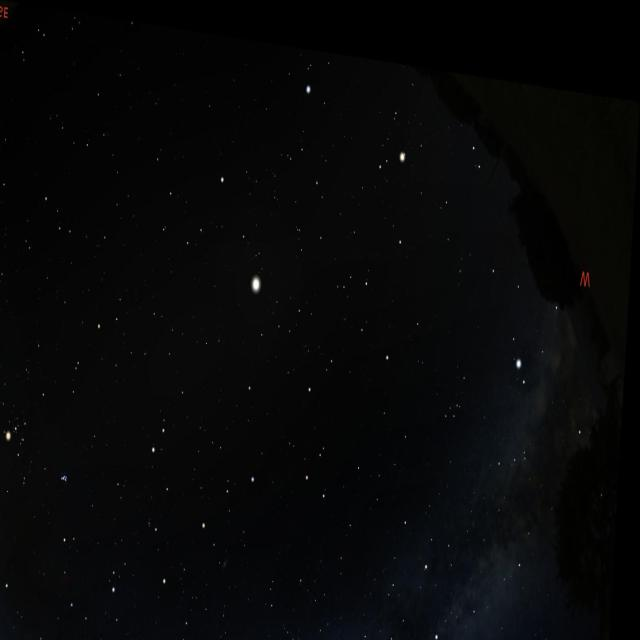cygnus: (394, 544, 518, 640)
pleiades: (60, 455, 80, 495)
taurus: (0, 377, 86, 508)
